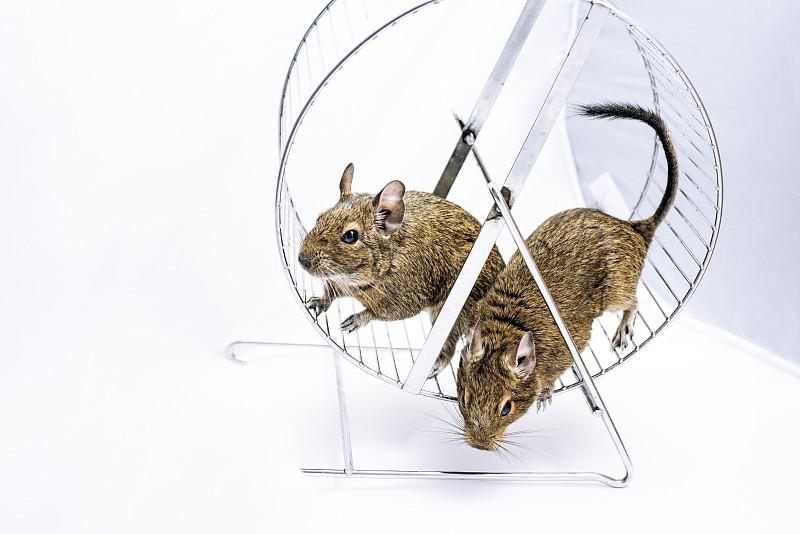rat: (298, 89, 590, 441), (434, 121, 696, 470)
